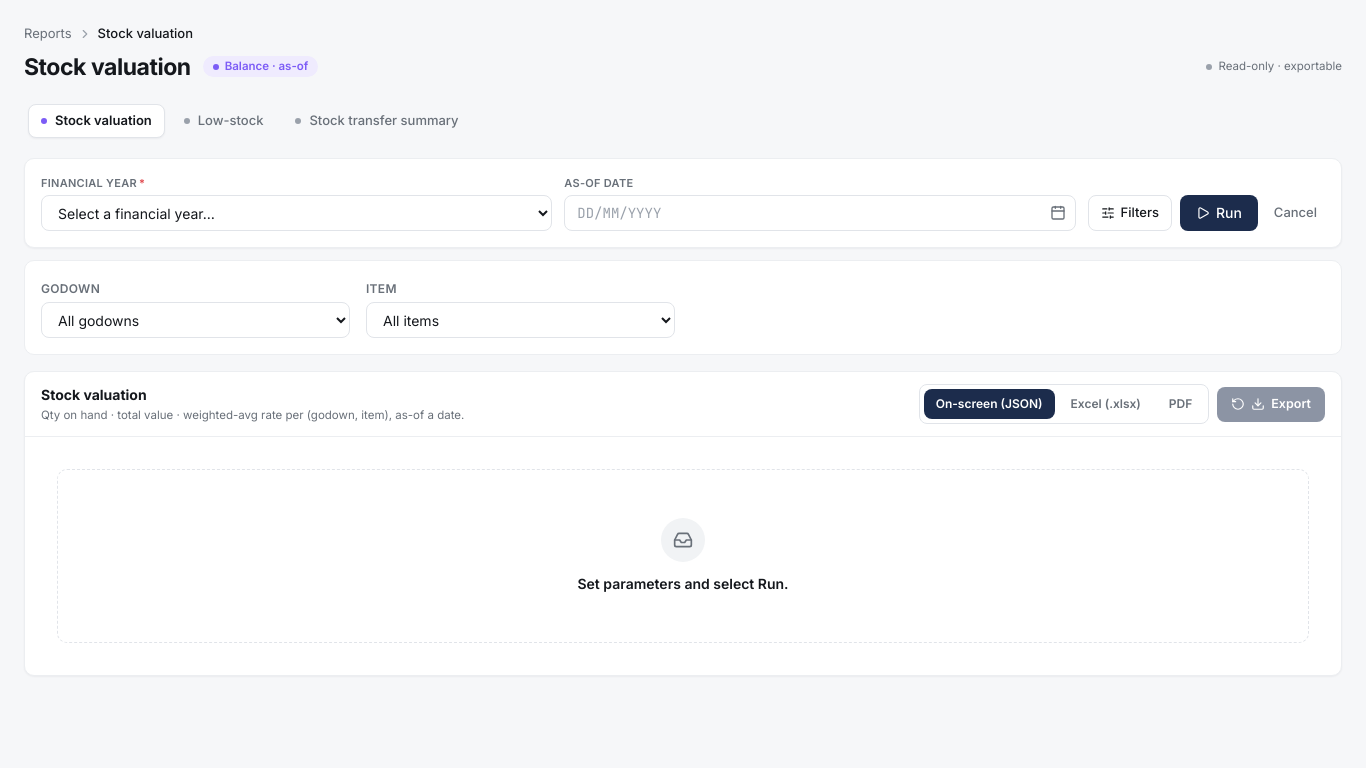
Test case: Stock valuation — zero-row + totals footer (FR-RPT-021, SRS edge 11) › renders zero-quantity row inline with per-row note, plus the reconciling totals footer
Type "30/06/2026" into the field at (820, 213), box [564,195,1076,231]
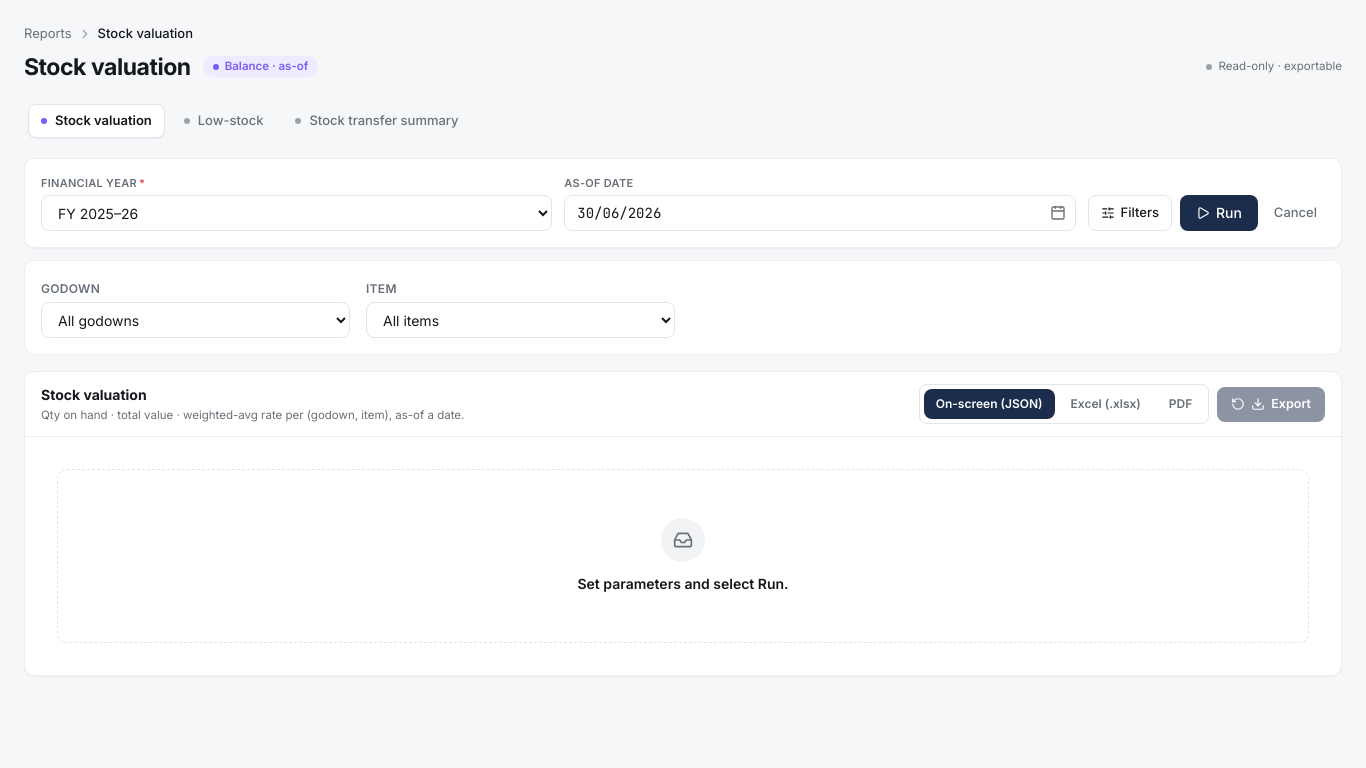
Click the button with test id "report-run" at (1219, 213), box [1180,195,1258,231]
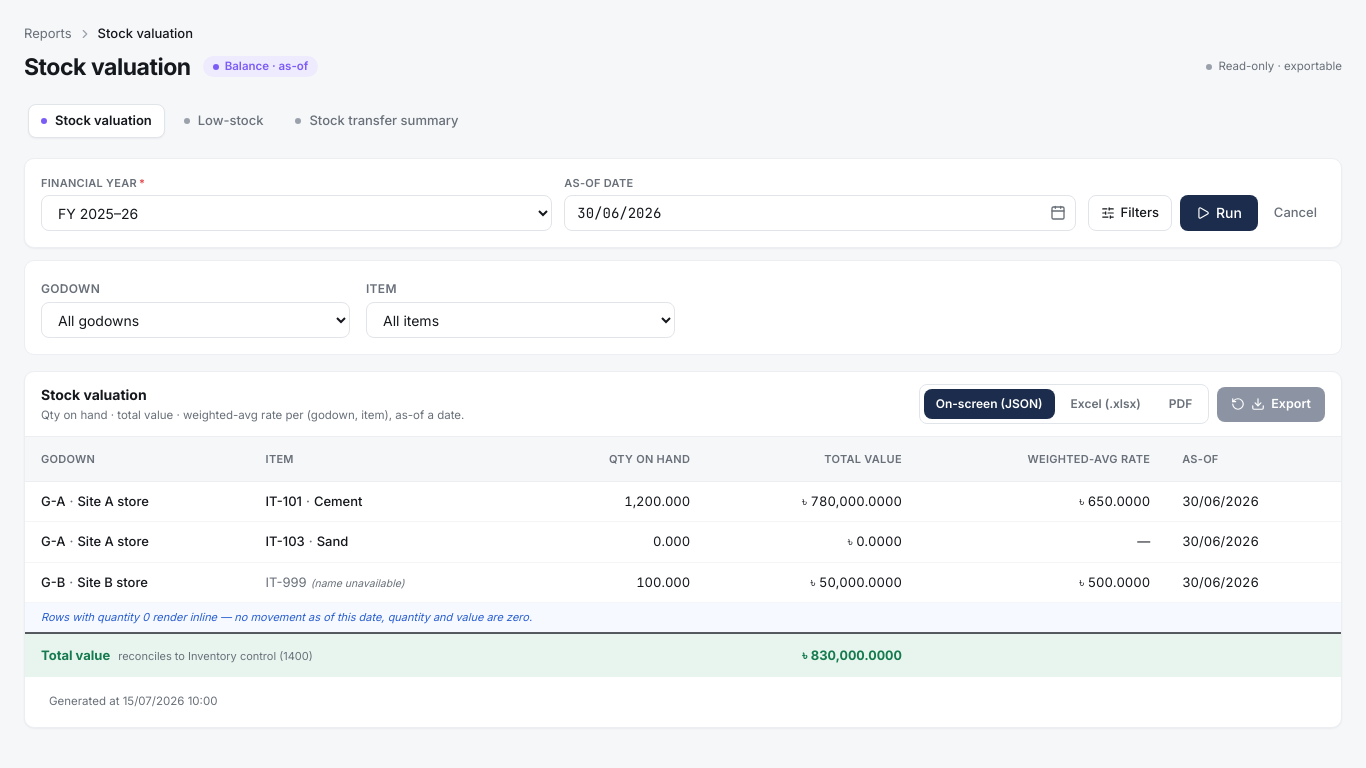
Expected: the element with test id "iv-sv-table" is shown, [25,437,1341,727]
Expected: the row with test id "iv-sv-zero-row" is shown, [25,522,1341,562]
Expected: the row with test id "iv-sv-zero-note" shows "quantity 0", [41,610,532,624]
